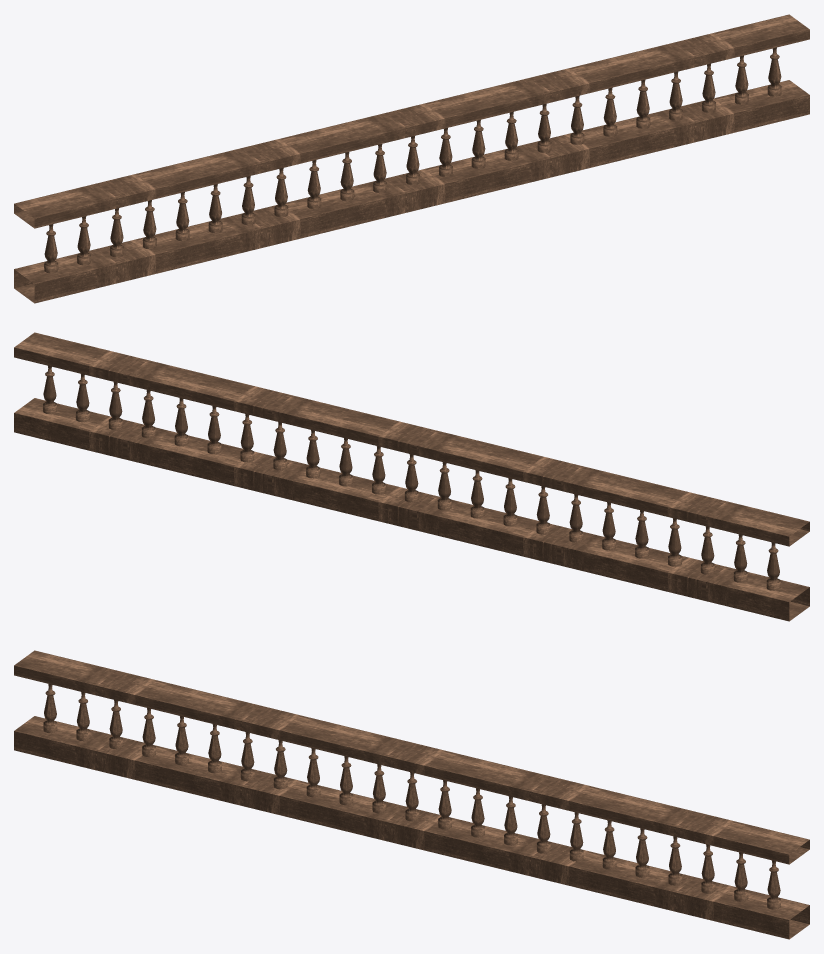
The model's file is balkiBalkon.fbx.
The picture shows the model from 3 angles, top to bottom: view 1: azimuth 30°, elevation 25°; view 2: azimuth 150°, elevation 25°; view 3: azimuth 330°, elevation 25°; orthographic projection.
Visible parts, largest first — view 1: Cube.013, Cube.006, porucniHP.001; view 2: Cube.013, Cube.006, porucniHP.001; view 3: Cube.013, Cube.006, porucniHP.001.
Part boxes in pixels (x1,y1,x2,y2): Cube.013: (14, 80, 809, 303); Cube.006: (14, 14, 809, 228); porucniHP.001: (44, 47, 781, 273); Cube.013: (14, 398, 809, 621); Cube.006: (14, 332, 809, 546); porucniHP.001: (43, 366, 780, 590); Cube.013: (14, 716, 809, 939); Cube.006: (14, 650, 809, 864); porucniHP.001: (43, 684, 780, 909).
Bounding box in the file's own units: 1085 × 113 × 50.
